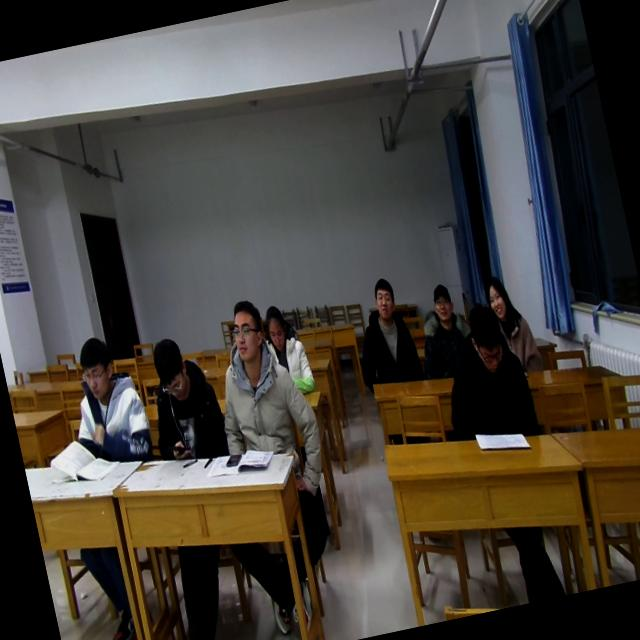down: (144, 328, 195, 405), (461, 296, 510, 376), (70, 327, 119, 404), (257, 296, 294, 356)
lookup: (222, 292, 270, 365), (363, 274, 400, 326), (479, 269, 514, 323), (424, 275, 457, 327)
sit: (195, 288, 323, 466), (427, 296, 544, 452), (56, 327, 156, 476), (136, 330, 232, 470), (342, 274, 425, 394), (408, 278, 482, 384), (482, 268, 546, 378), (258, 296, 318, 398)
